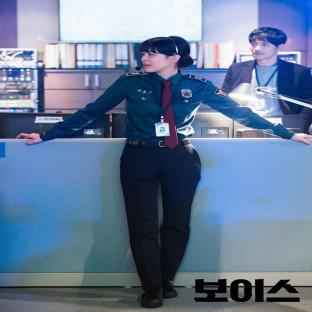Human: (17, 36, 310, 307)
